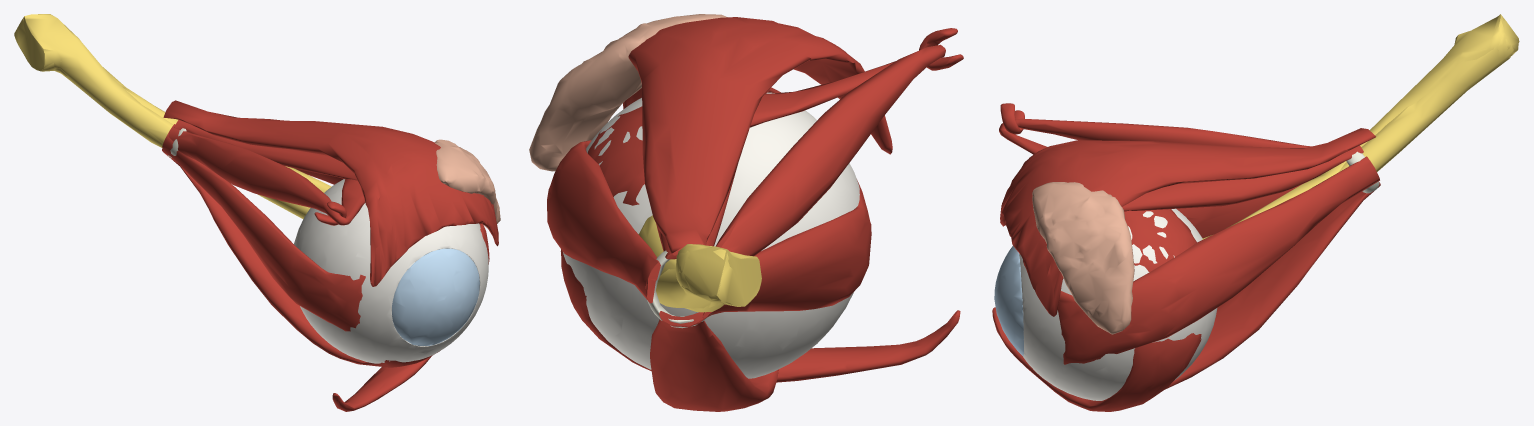
The model's file is auge3d.glb.
The picture shows the model from 3 angles, left to right: view 1: azimuth 30°, elevation 25°; view 2: azimuth 150°, elevation 25°; view 3: azimuth 270°, elevation 25°; orthographic projection. The views are drawn at different scales.
Visible parts, largest first — view 1: Left levator palpebrae superioris, Left sclera, Left medial rectus, Left optic nerve (×2), Left cornea, Left superior oblique, Left inferior rectus, Left lacrimal gland, Left superior rectus, Left inferior oblique; view 2: Left levator palpebrae superioris, Left sclera, Left superior oblique, Left medial rectus, Left lateral rectus, Left lacrimal gland, Left inferior rectus, Left optic nerve (×2), Left inferior oblique, Trochlea of left superior oblique, Left superior rectus, Left common tendinous ring; view 3: Left lateral rectus, Left levator palpebrae superioris, Left lacrimal gland, Left optic nerve (×2), Left sclera, Left superior oblique, Left inferior rectus, Left inferior oblique, Left superior rectus, Left cornea, Left medial rectus, Trochlea of left superior oblique.
Boxes of the visible parts, box(x1,y1,x2,y2) form: Left levator palpebrae superioris: box(163, 100, 498, 286); Left sclera: box(294, 179, 488, 363); Left medial rectus: box(162, 132, 365, 331); Left optic nerve (×2): box(14, 14, 331, 218); Left cornea: box(392, 248, 479, 345); Left superior oblique: box(168, 124, 365, 225); Left inferior rectus: box(163, 152, 439, 367); Left lacrimal gland: box(435, 139, 500, 228); Left superior rectus: box(174, 120, 357, 180); Left inferior oblique: box(332, 356, 431, 411); Left levator palpebrae superioris: box(623, 17, 892, 255); Left sclera: box(563, 92, 859, 378); Left superior oblique: box(587, 44, 945, 256); Left medial rectus: box(702, 180, 871, 318); Left lateral rectus: box(547, 140, 660, 303); Left lacrimal gland: box(529, 14, 727, 171); Left inferior rectus: box(650, 311, 778, 411); Left optic nerve (×2): box(638, 215, 761, 312); Left inferior oblique: box(560, 249, 960, 382); Trochlea of left superior oblique: box(919, 28, 963, 70); Left superior rectus: box(656, 87, 780, 259); Left common tendinous ring: box(647, 250, 711, 328); Left lateral rectus: box(1058, 156, 1379, 364); Left levator palpebrae superioris: box(1000, 128, 1375, 316); Left lacrimal gland: box(1032, 182, 1134, 334); Left optic nerve (×2): box(1202, 14, 1519, 239); Left sclera: box(1019, 208, 1217, 400); Left superior oblique: box(999, 118, 1311, 271); Left inferior rectus: box(1056, 182, 1380, 392); Left inferior oblique: box(992, 307, 1201, 411); Left superior rectus: box(1122, 145, 1363, 211); Left cornea: box(994, 246, 1023, 356); Left medial rectus: box(1176, 181, 1308, 238); Trochlea of left superior oblique: box(1000, 103, 1024, 134).
Size of the model in its own units: 0.0464 by 0.0391 by 0.0642.
